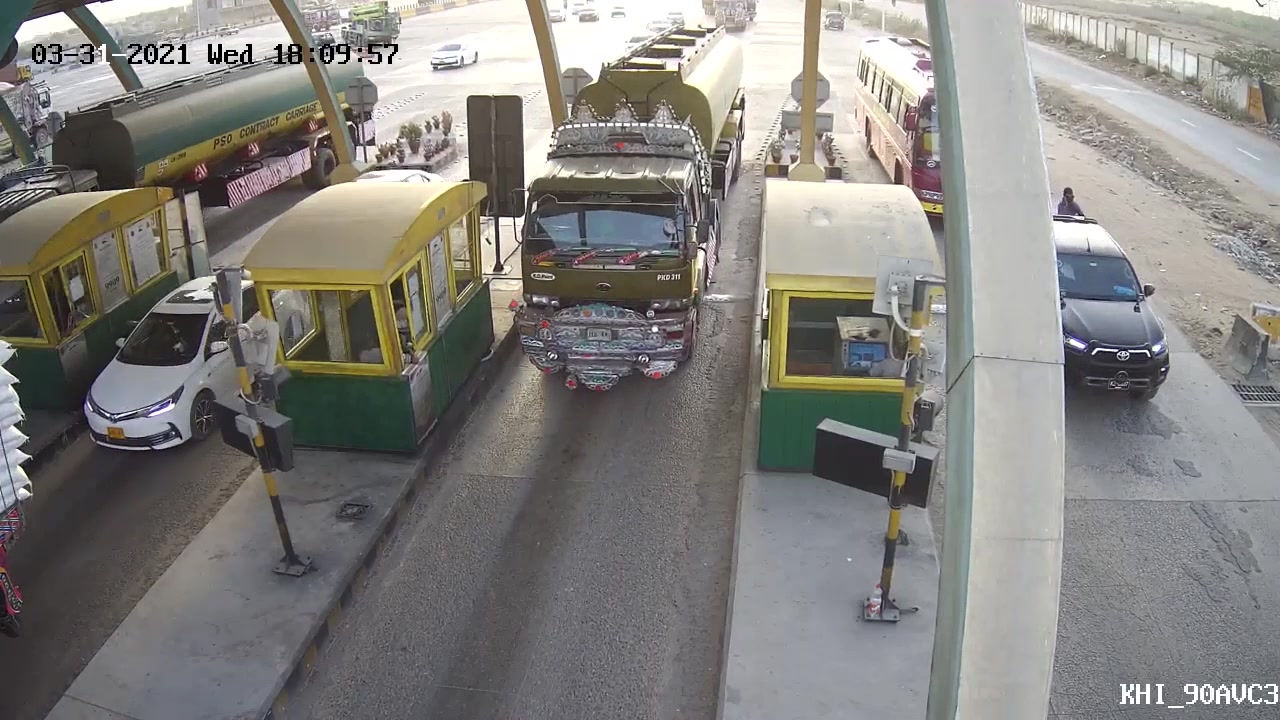F6: (508, 101, 745, 400)
